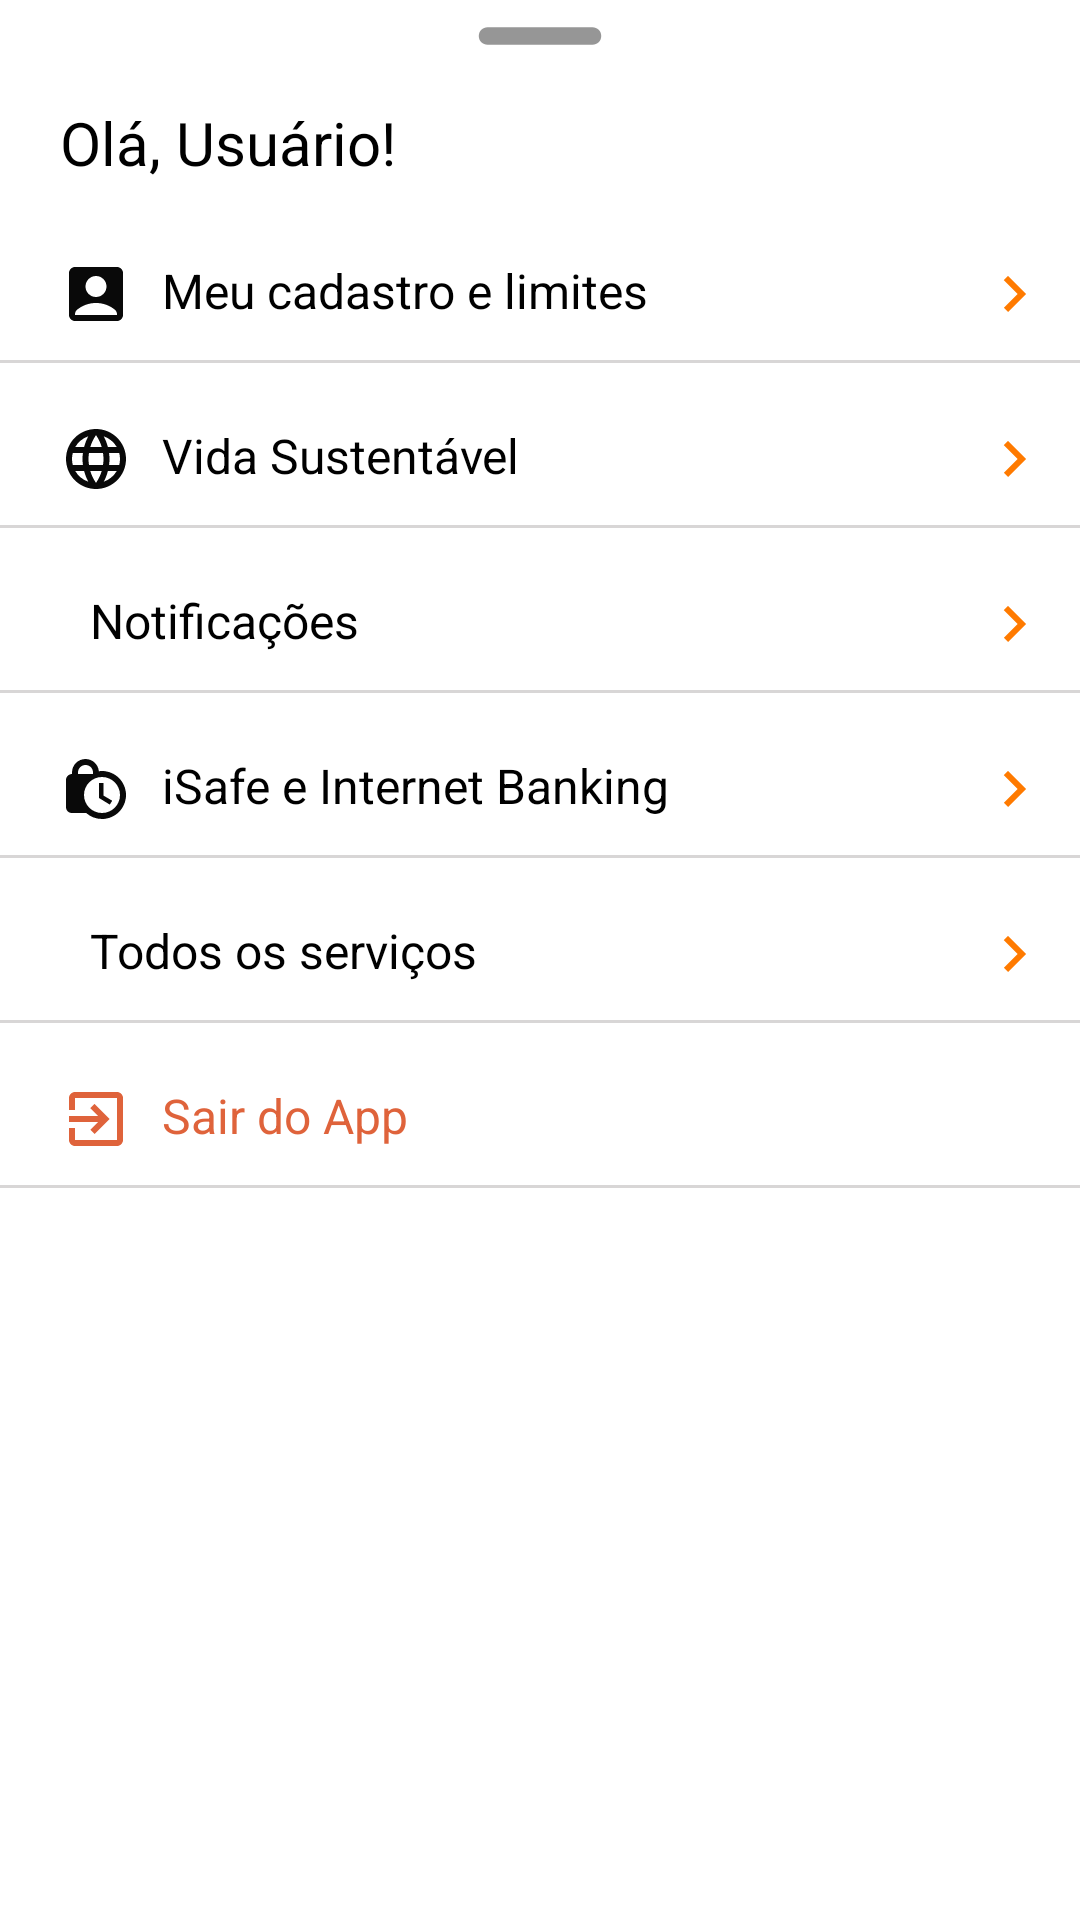

Screen size 1080w x 1920h. Icon name, then its box in pixels as [left=x1, top=y1, right=x2, bottom=y2]:
account box: [left=69, top=267, right=123, bottom=321]
exit to app: [left=69, top=1092, right=123, bottom=1146]
keyboard arrow right: [left=1004, top=276, right=1026, bottom=312], [left=1004, top=441, right=1026, bottom=477], [left=1004, top=606, right=1026, bottom=642], [left=1004, top=771, right=1026, bottom=807], [left=1004, top=936, right=1026, bottom=972]
language: [left=66, top=429, right=126, bottom=489]
lock clock: [left=66, top=759, right=126, bottom=819]
